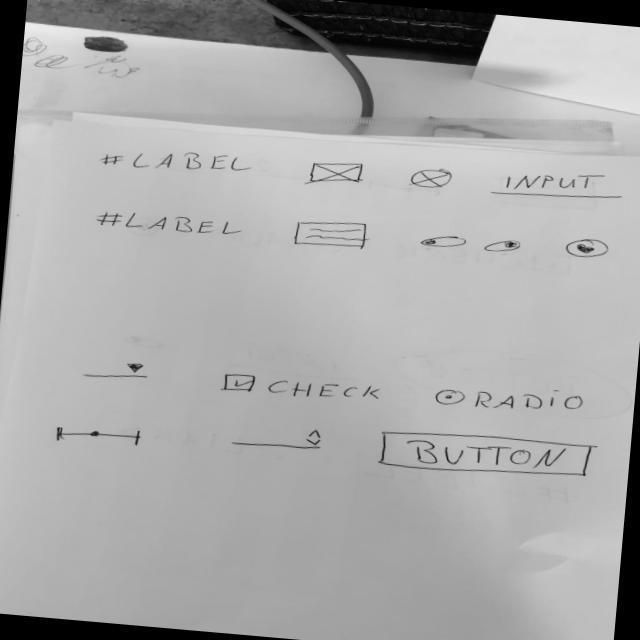button: (374, 426, 597, 487)
checkbox: (221, 371, 385, 408)
icon-button: (565, 237, 612, 260)
image: (306, 158, 368, 188), (408, 165, 456, 191)
input: (487, 164, 628, 207)
label: (99, 143, 257, 181), (93, 208, 248, 241)
number-input: (227, 421, 328, 455)
radio: (432, 379, 467, 420)
select: (81, 357, 154, 385)
slider: (54, 422, 145, 451)
textarea: (291, 217, 373, 253)
toggle: (419, 233, 468, 251), (483, 237, 524, 255)
